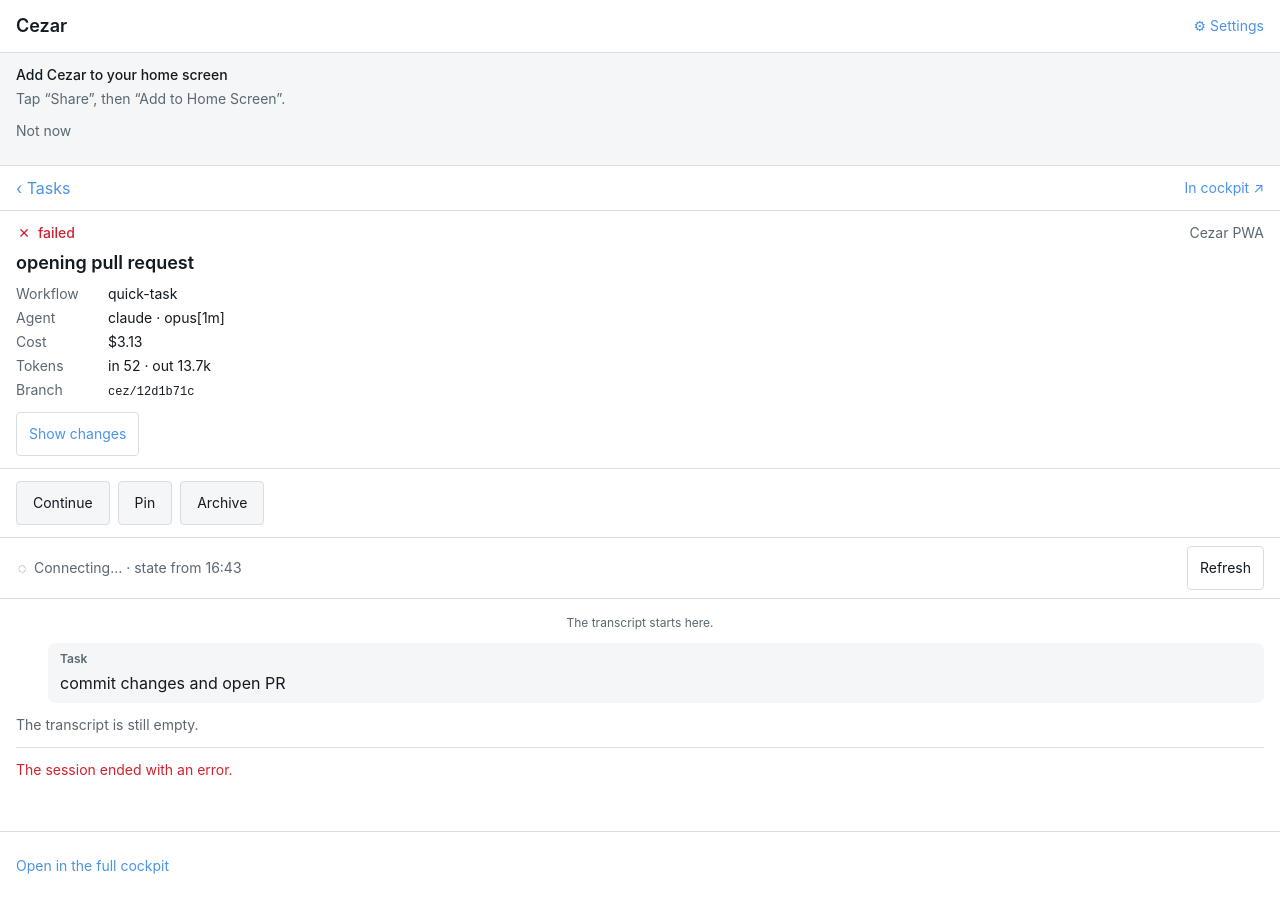
it: continue (FR-028) › reopens the session with no body, so the run keeps its own engine
This screenshot has width=1280, height=900.
Click the button "Continue" at (63, 503), box [16,481,110,525]
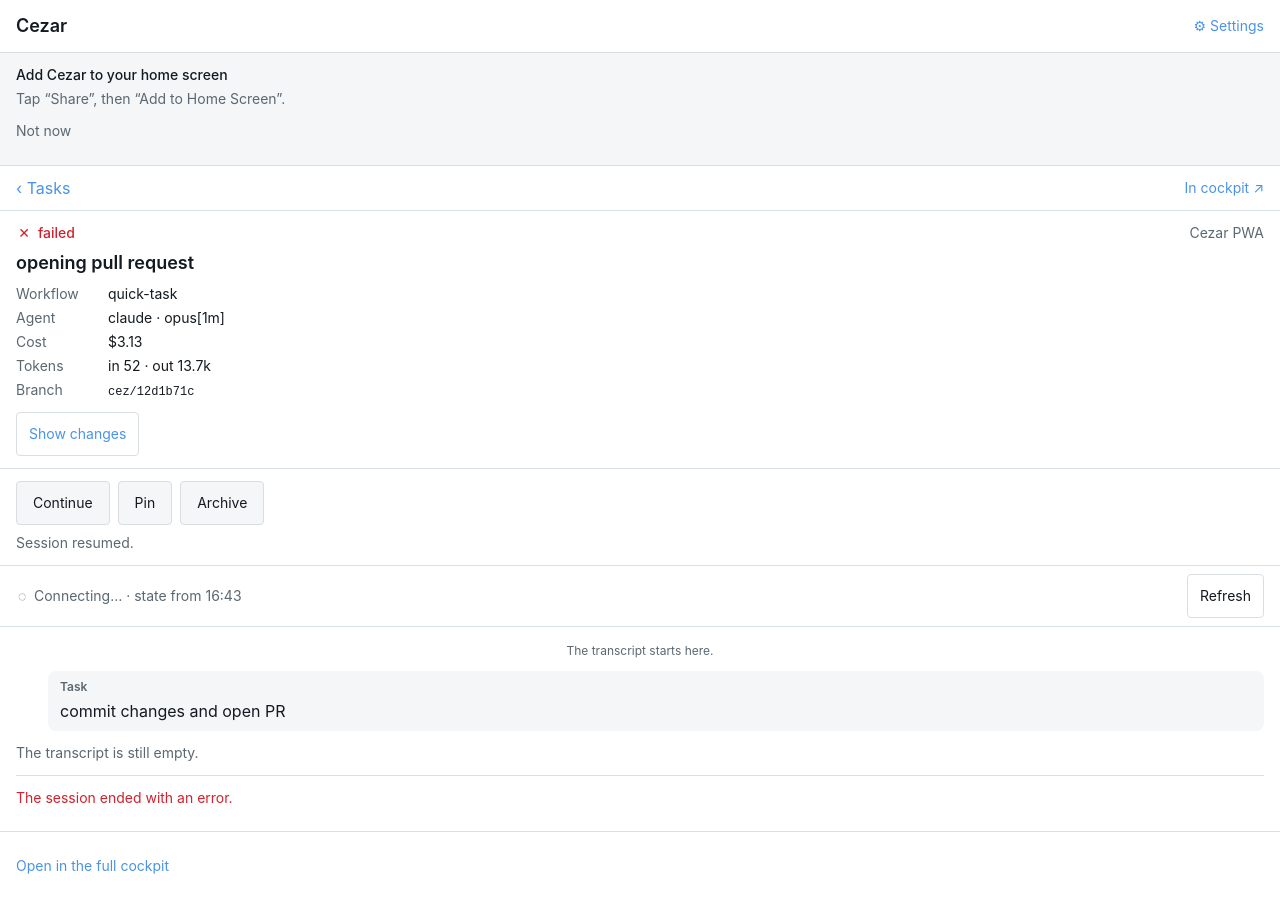
Now the text "Session resumed." is shown, box [16,534,134,551]
